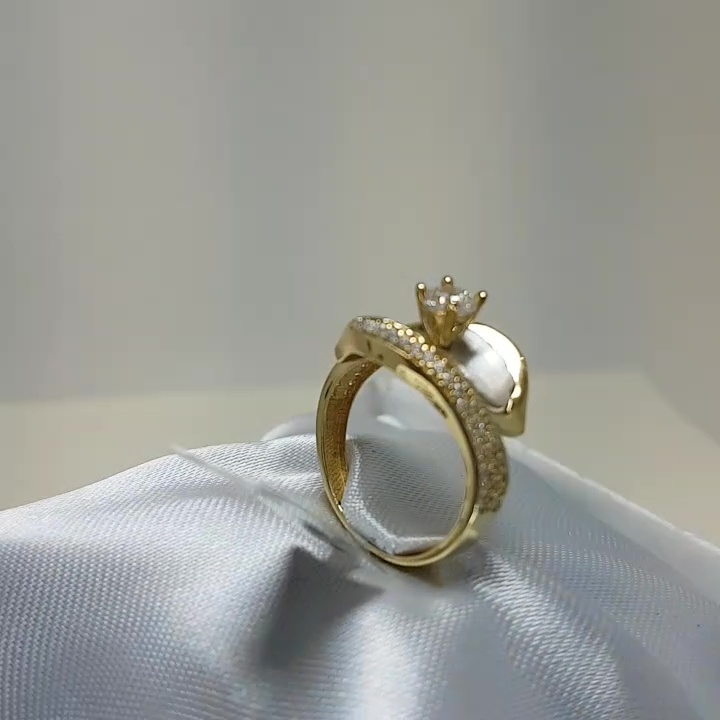Ring 6: (297, 252, 540, 586)
